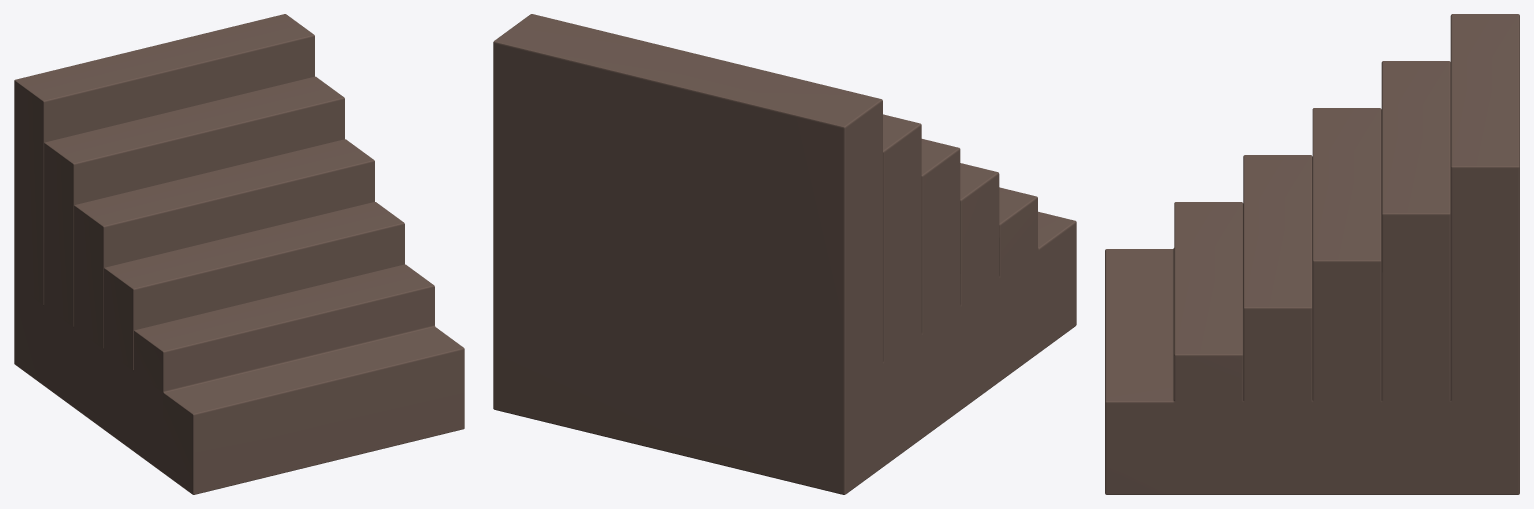
The model's file is sm_stairs.fbx.
The picture shows the model from 3 angles, left to right: view 1: azimuth 30°, elevation 25°; view 2: azimuth 150°, elevation 25°; view 3: azimuth 270°, elevation 25°; orthographic projection. The views are drawn at different scales.
Visible parts, largest first — view 1: stairs; view 2: stairs; view 3: stairs.
Boxes of the visible parts, x1,y1,x2,y2 form: stairs: [14, 14, 464, 494]; stairs: [493, 14, 1076, 494]; stairs: [1105, 14, 1519, 494].
Size of the model in its own units: 75.49 by 75.49 by 86.28.
